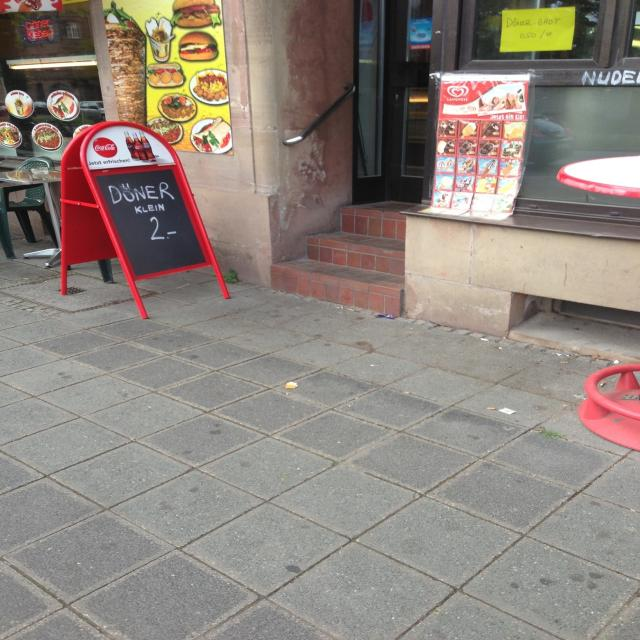AVOID: (267, 208, 406, 316)
